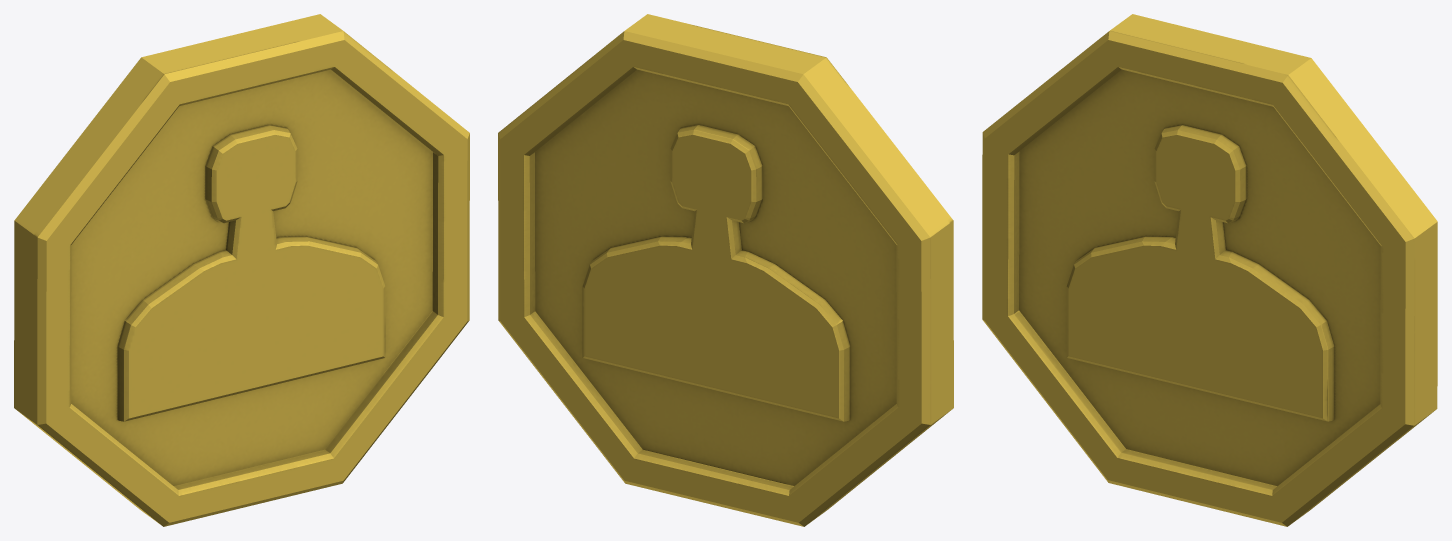
File: money.fbx
3 views of the same model, side by side, from view 1: azimuth 30°, elevation 25°; view 2: azimuth 150°, elevation 25°; view 3: azimuth 330°, elevation 25° (orthographic).
Parts seen in each view (by area): view 1: Coin; view 2: Coin; view 3: Coin.
Boxes of the visible parts, x1,y1,x2,y2 form: Coin: (14, 14, 469, 526); Coin: (498, 14, 953, 526); Coin: (982, 14, 1437, 526).
Bounding box in the file's own units: 185 × 185 × 22.05.
